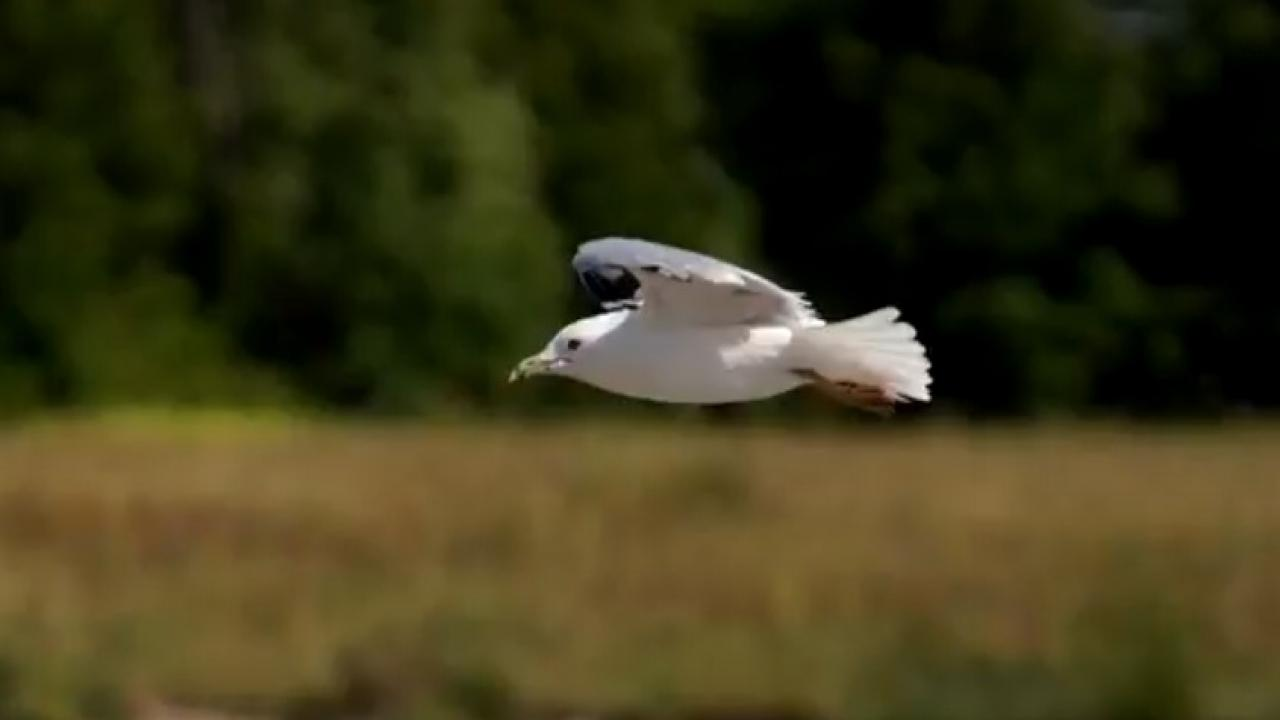Bird: (496, 223, 946, 432)
